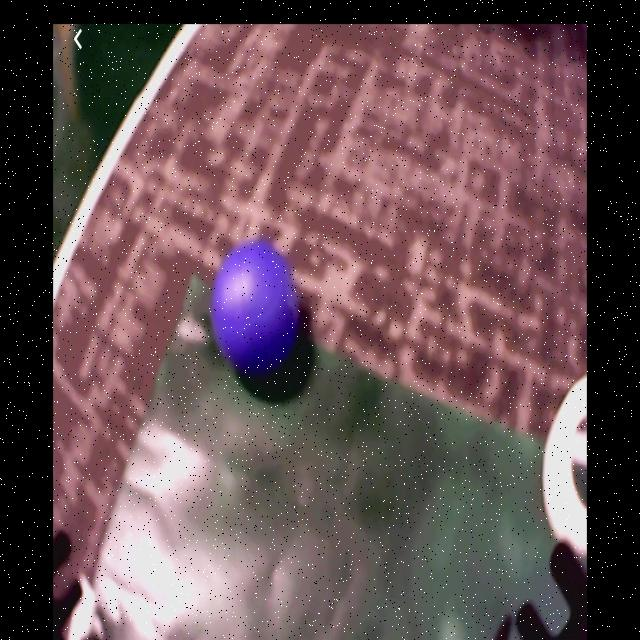ball: (212, 244, 301, 379)
